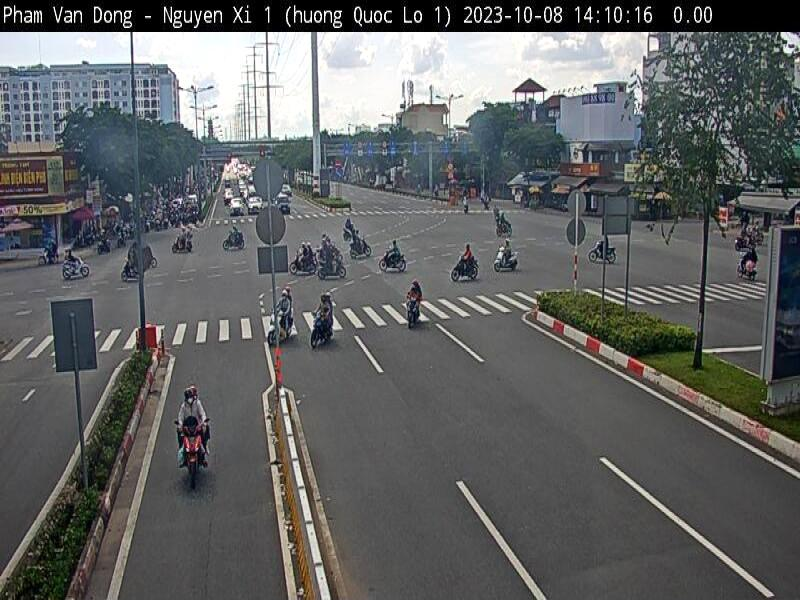motorcycle: (166, 416, 211, 488)
